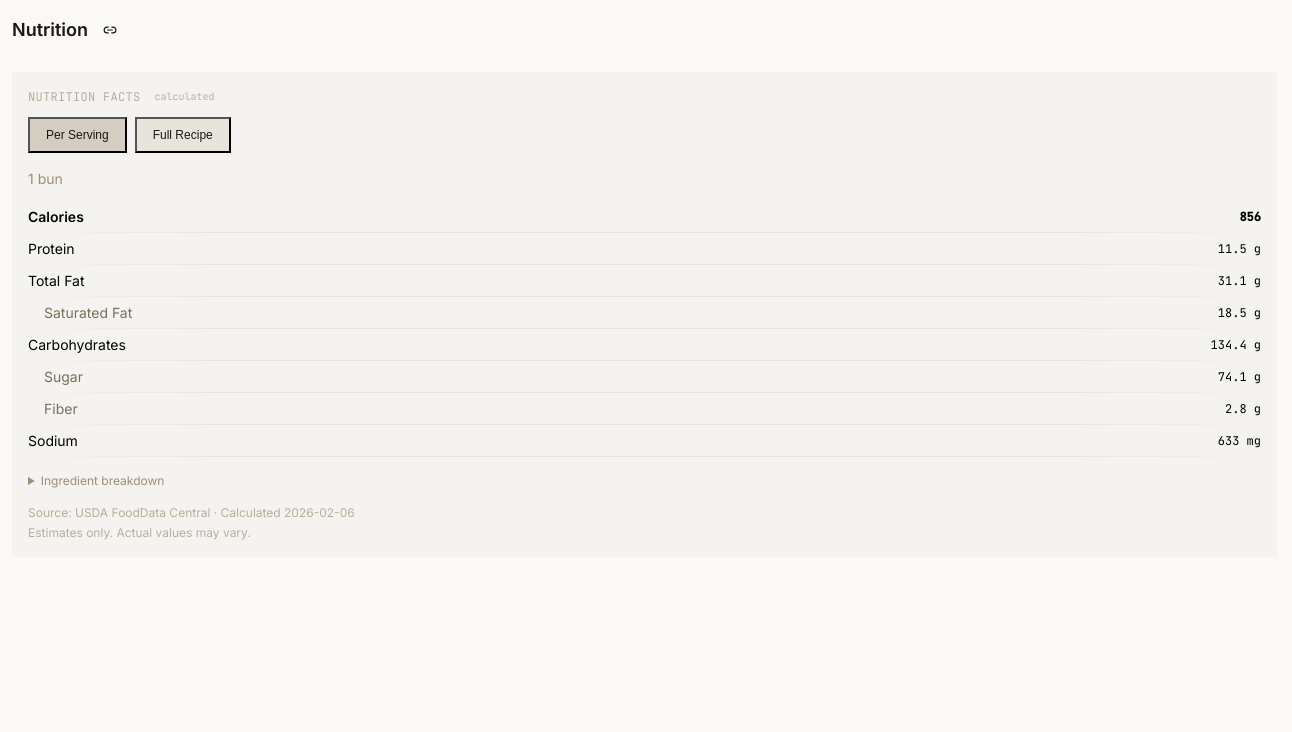
Test case: NutritionSection › toggles back to per-serving
Note: Go to full
Step 1. Click the button "Full Recipe" → coordinates (183, 135), box [135, 117, 231, 153]
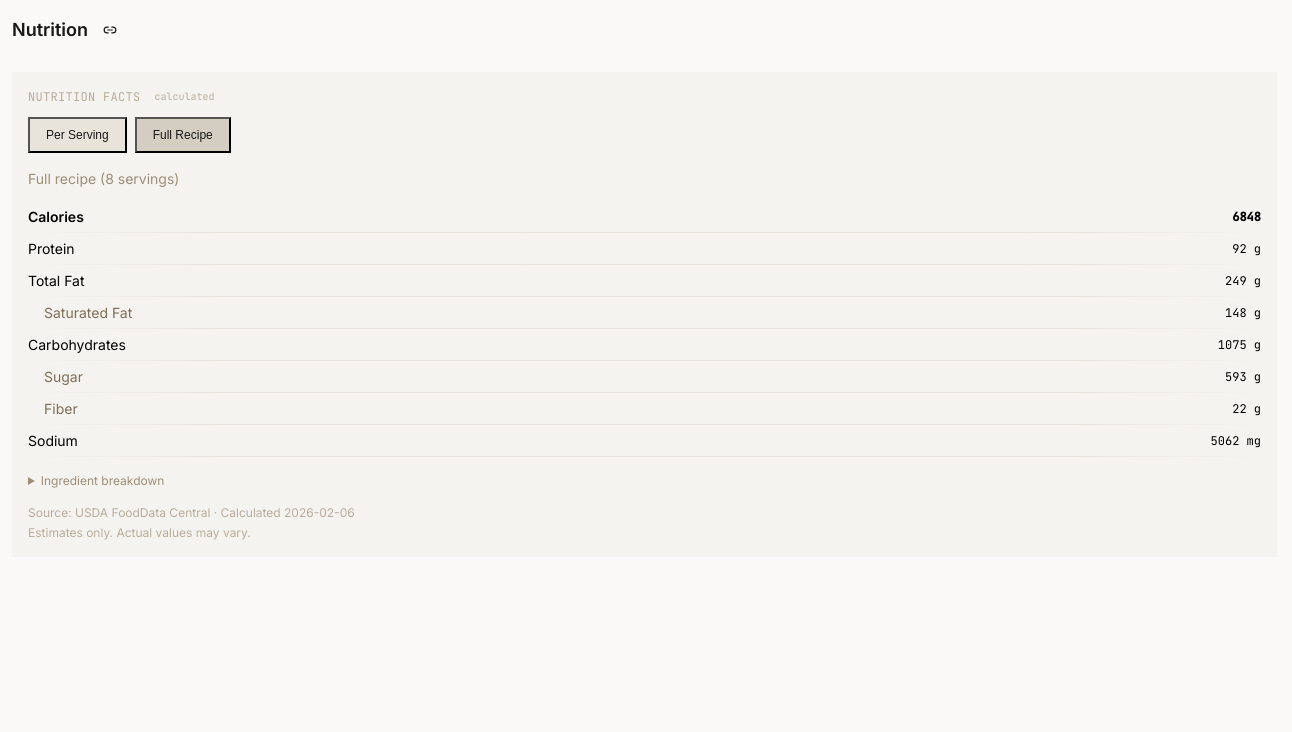
Result: the text "6848" is shown at [859, 201, 1261, 233]
Note: Back to per-serving
Step 2. Click the button "Per Serving" → coordinates (77, 135), box [28, 117, 127, 153]
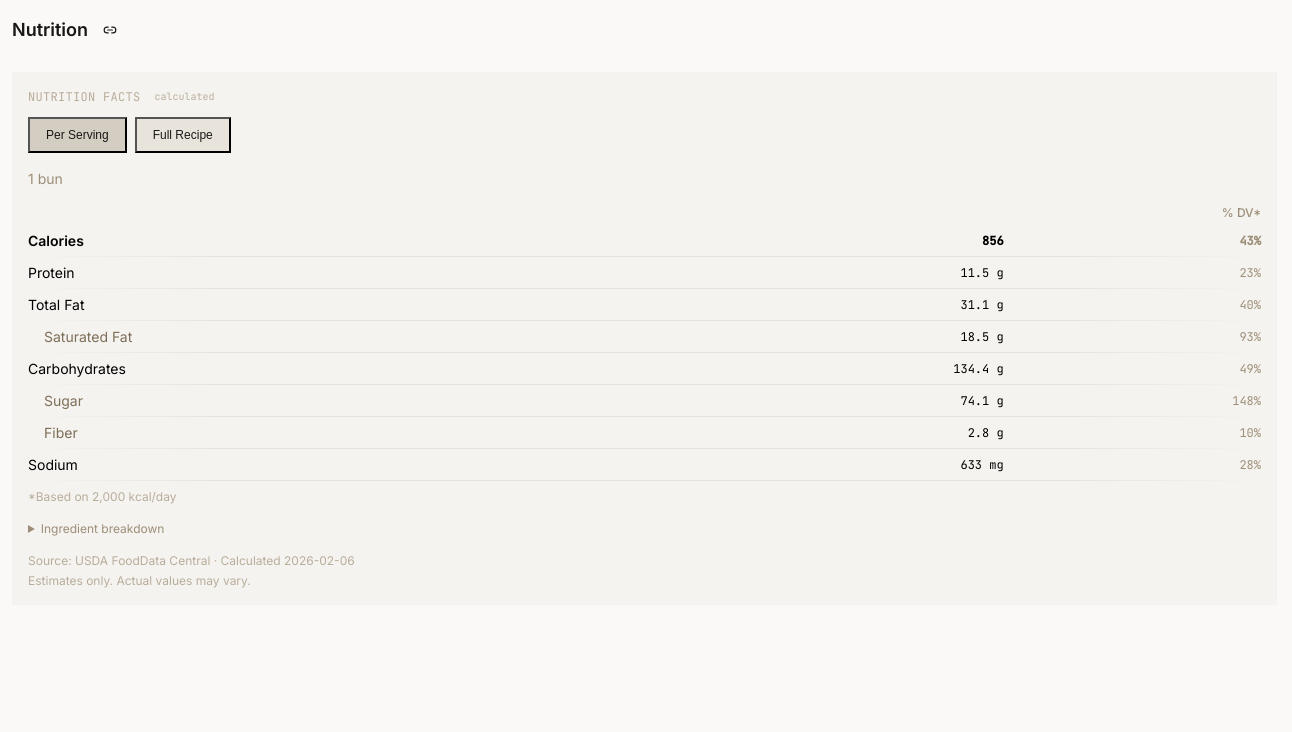
Result: the text "856" is shown at [686, 225, 1004, 257]
